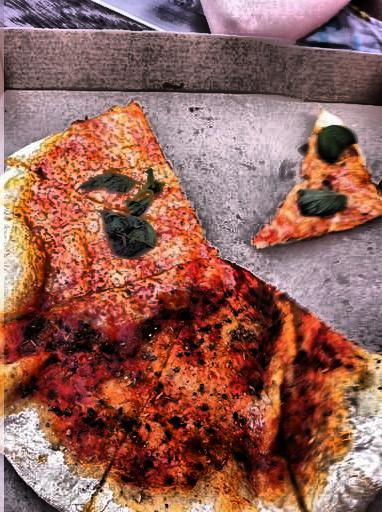pizza: (2, 91, 378, 512)
